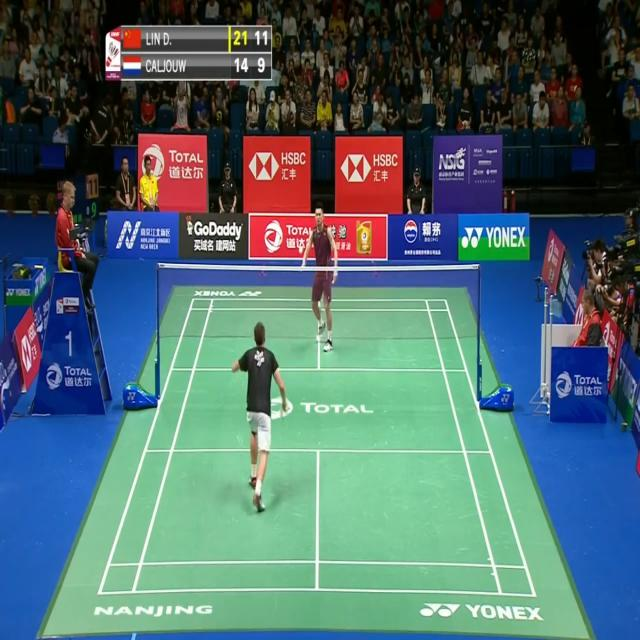Player1: (229, 311, 291, 533)
Player2: (298, 198, 342, 368)
